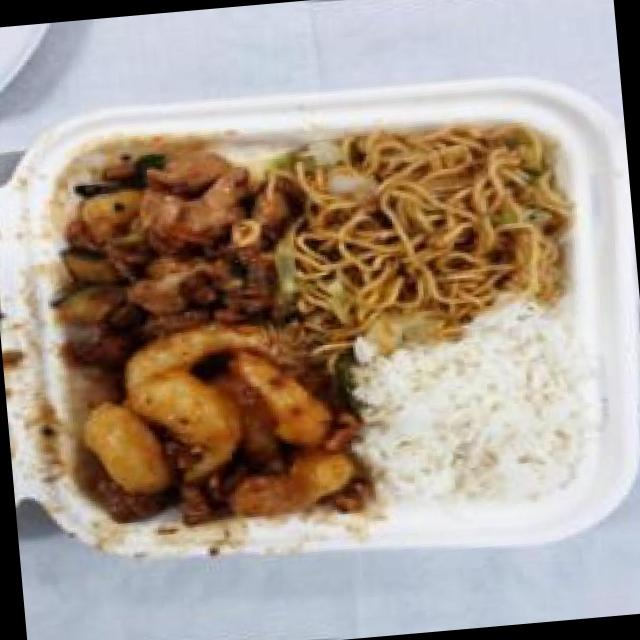Chow Mein: (281, 105, 584, 347)
Honey Walnut Shrimp: (57, 304, 376, 547)
Kung Pao Chicken: (34, 130, 301, 354)
White Steamed Rice: (348, 304, 604, 519)
